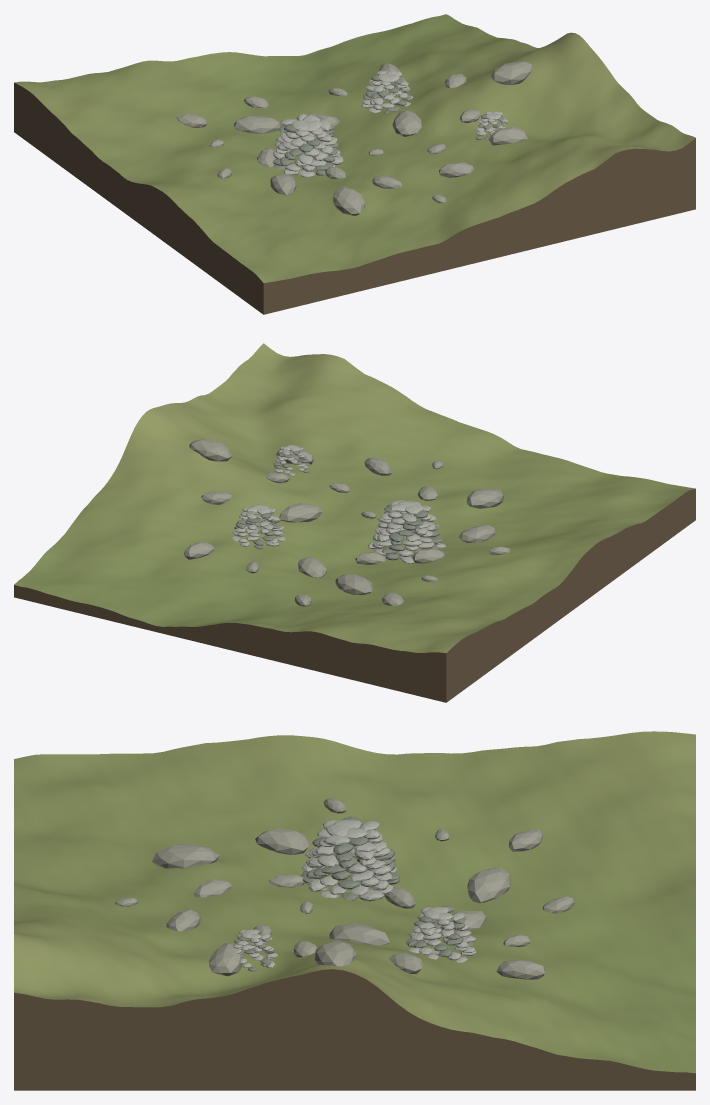
Rendered from gms-58.glb.
The picture shows the model from 3 angles, top to bottom: view 1: azimuth 30°, elevation 25°; view 2: azimuth 150°, elevation 25°; view 3: azimuth 270°, elevation 25°; orthographic projection. The views are drawn at different scales.
Parts seen in each view (by area): view 1: GMS-58 - estudio del paisaje; view 2: GMS-58 - estudio del paisaje; view 3: GMS-58 - estudio del paisaje.
Part boxes in pixels (x1,y1,x2,y2): GMS-58 - estudio del paisaje: (14,14,695,314); GMS-58 - estudio del paisaje: (14,343,695,702); GMS-58 - estudio del paisaje: (14,731,695,1090).
Bounding box in the file's own units: 12 × 2.35 × 12.
